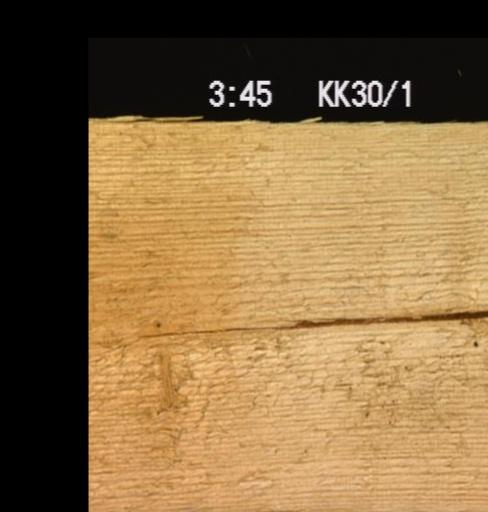split: (134, 320, 288, 337)
